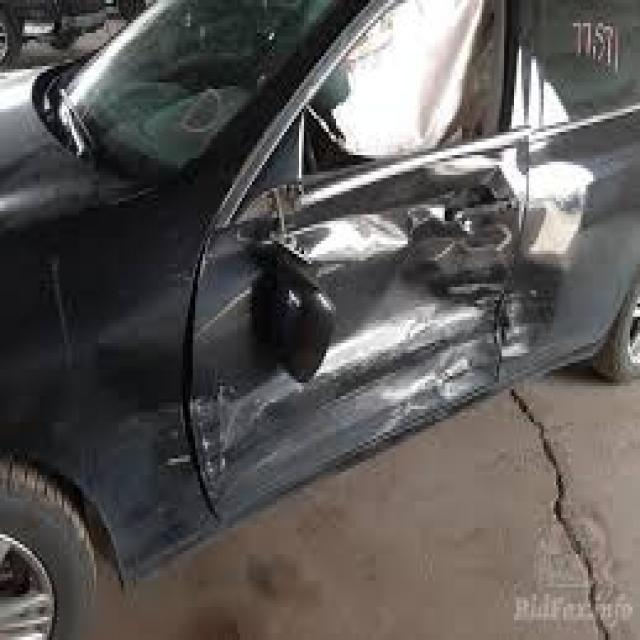damaged-door: (195, 0, 518, 507)
